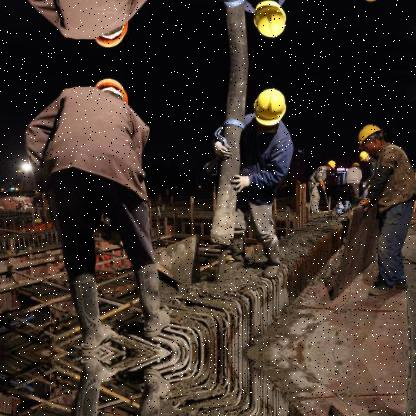helmet: (253, 83, 291, 127), (252, 0, 291, 40), (93, 75, 129, 105), (93, 17, 129, 47), (357, 120, 387, 154), (326, 157, 340, 171), (360, 149, 374, 162)
